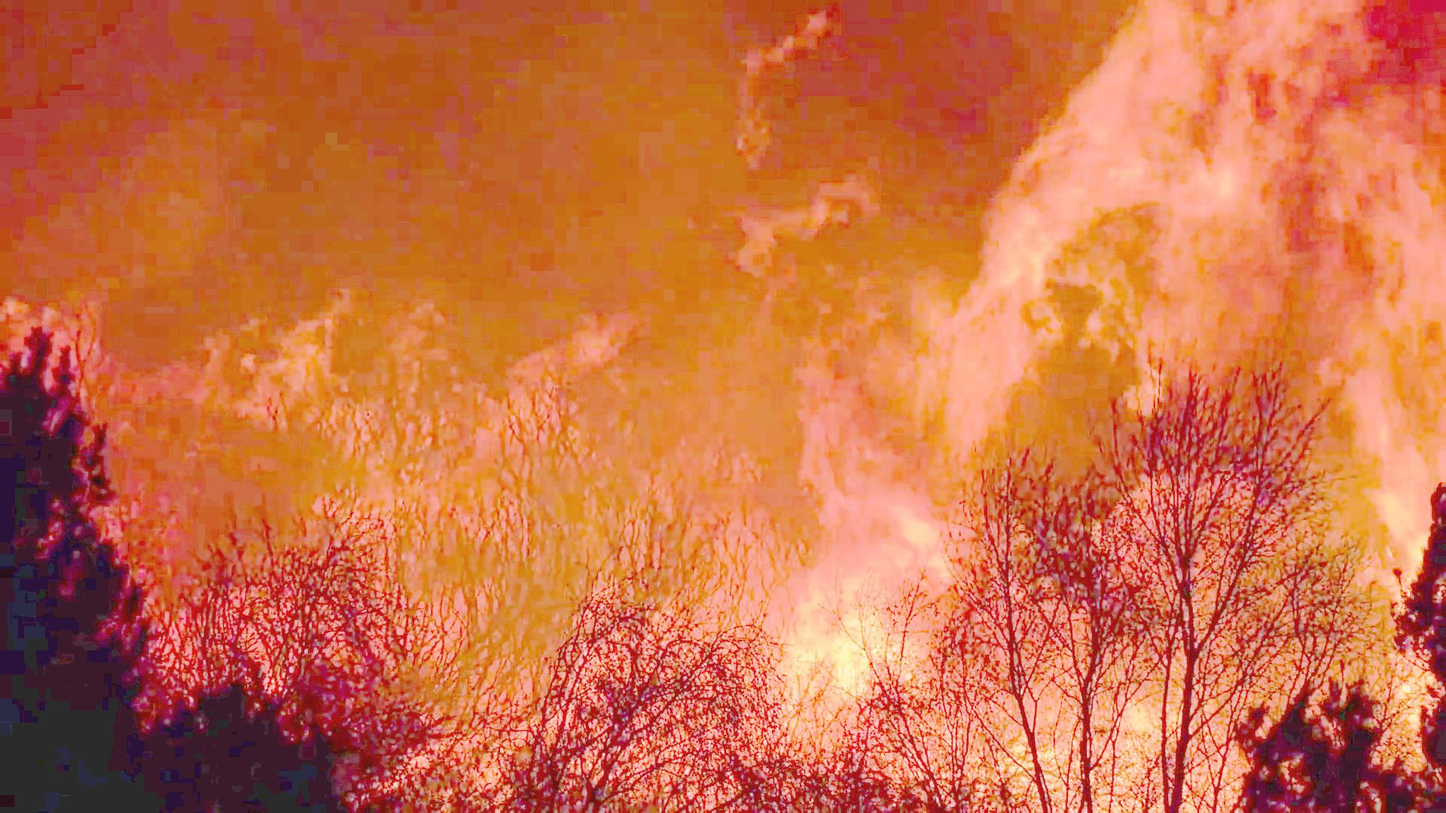fire: (1006, 0, 1446, 245), (761, 306, 992, 678)
